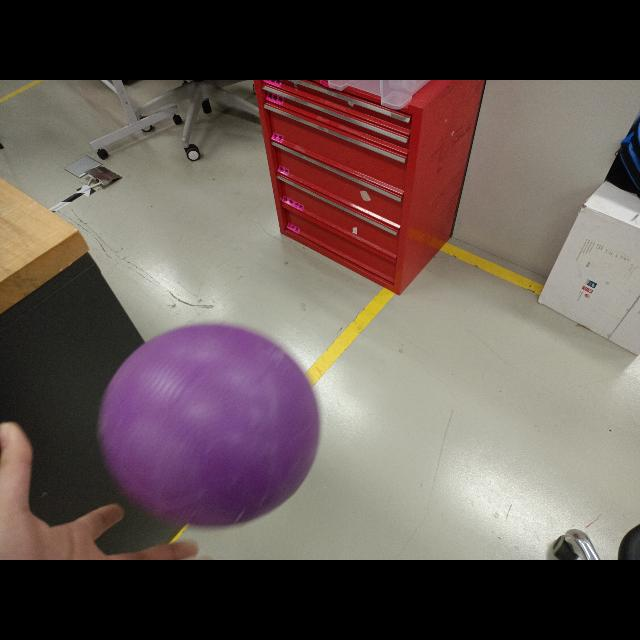P: (95, 328, 319, 530)
